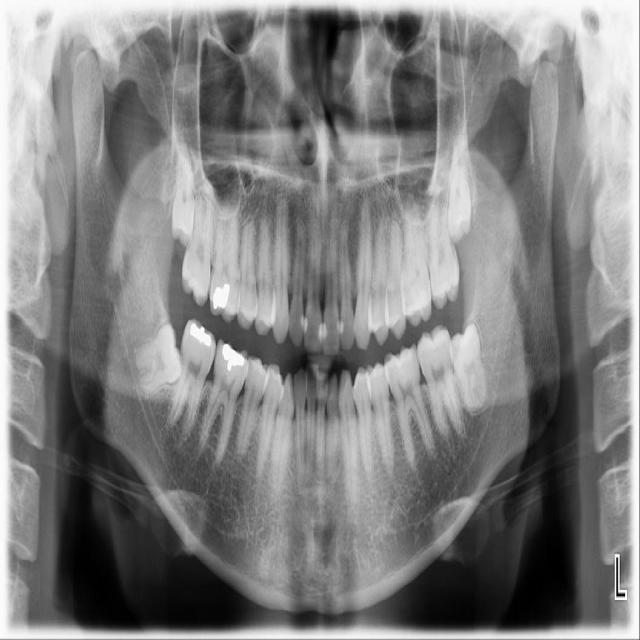Filling: (187, 321, 212, 348), (220, 344, 247, 369), (210, 281, 230, 311)
impacted tooth: (127, 323, 184, 398), (444, 119, 473, 242), (449, 321, 484, 411), (172, 137, 196, 246)
